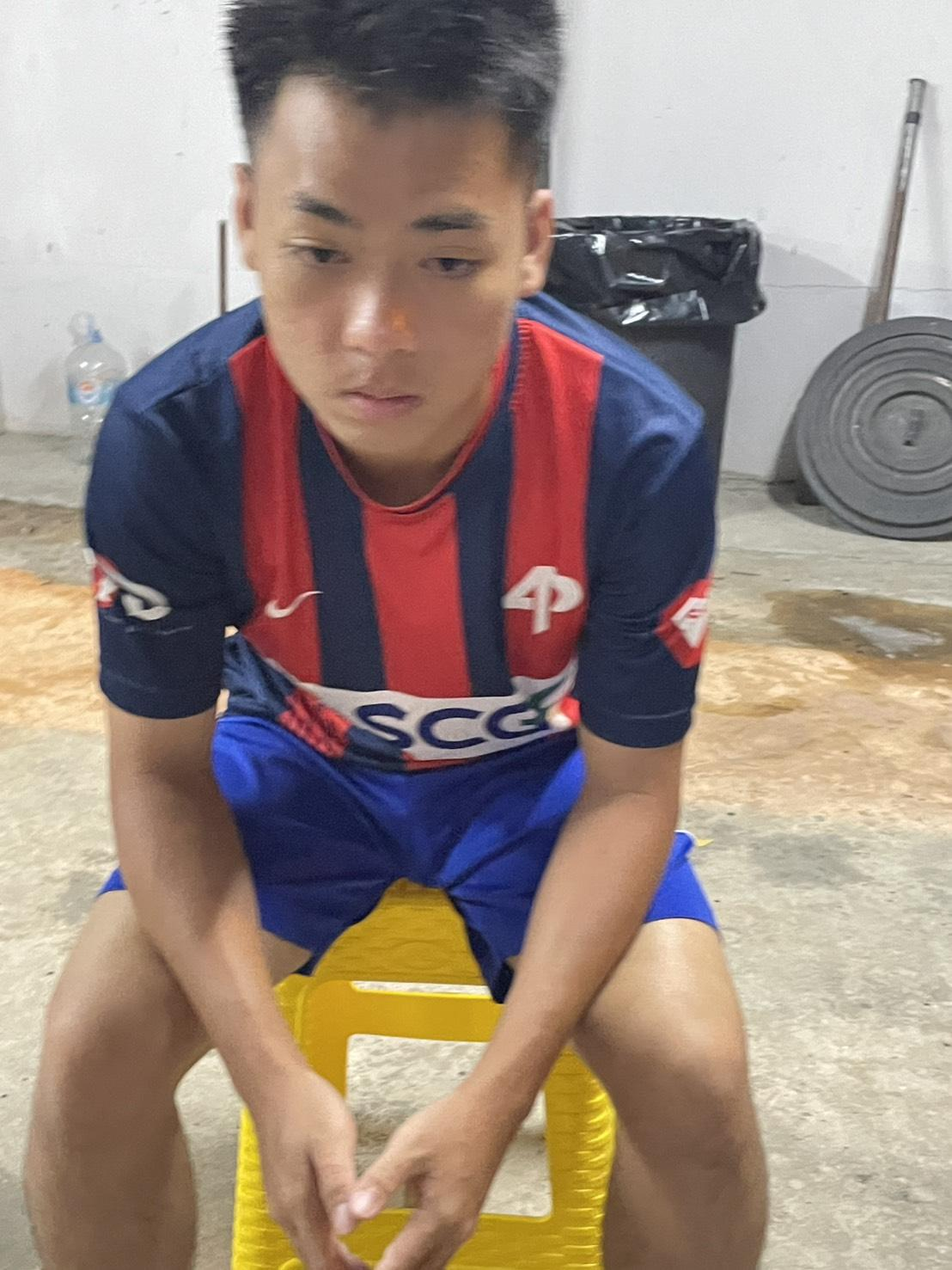BadPosture: (85, 0, 715, 896), (88, 0, 763, 775), (87, 0, 712, 772), (86, 0, 711, 766)
